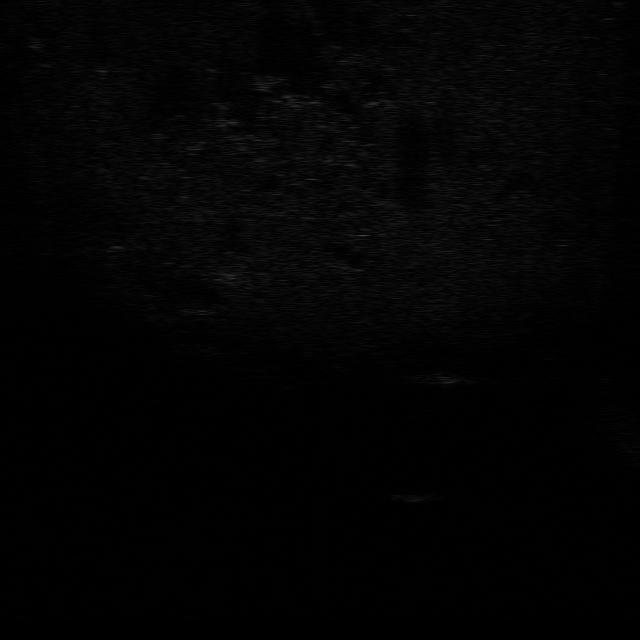cube: (391, 487, 435, 504)
square cage: (429, 366, 470, 391)
